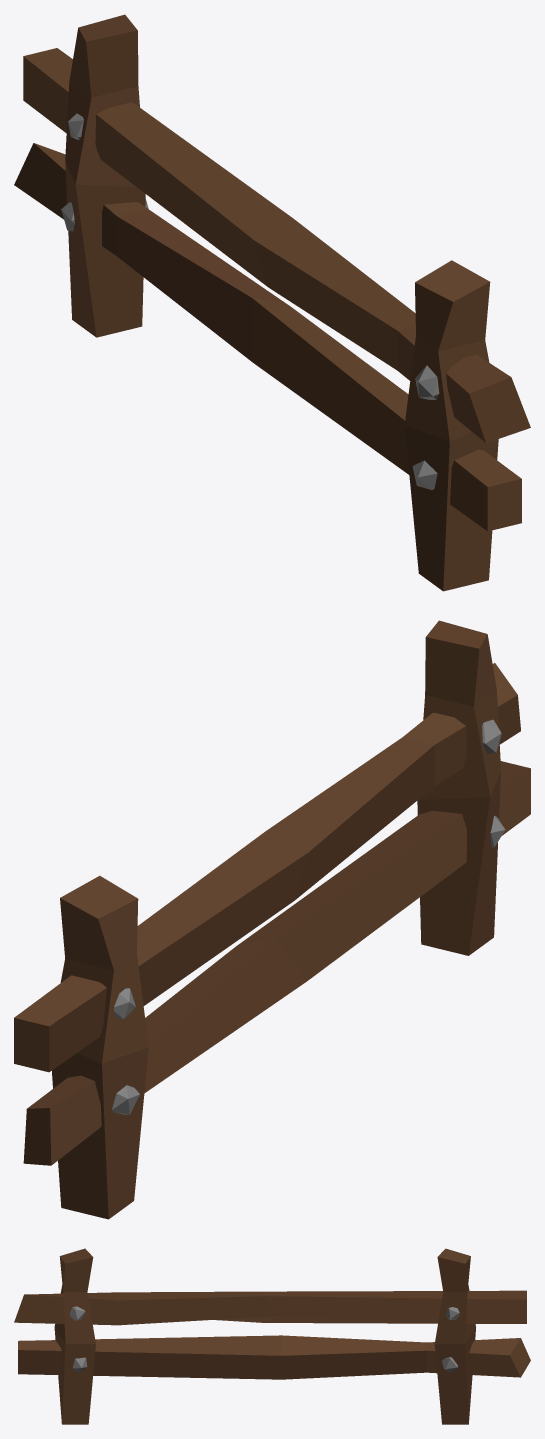
Rendered from wood_fence.fbx.
3 views of the same model, one above another, from view 1: azimuth 30°, elevation 25°; view 2: azimuth 150°, elevation 25°; view 3: azimuth 270°, elevation 25° (orthographic). The views are drawn at different scales.
Visible parts, largest first — view 1: Icosphere.005; view 2: Icosphere.005; view 3: Icosphere.005.
Part boxes in pixels (x1,y1,x2,y2): Icosphere.005: [14, 14, 530, 591]; Icosphere.005: [14, 620, 530, 1219]; Icosphere.005: [14, 1248, 530, 1424].
Size of the model in its own units: 80.54 by 296 by 839.
